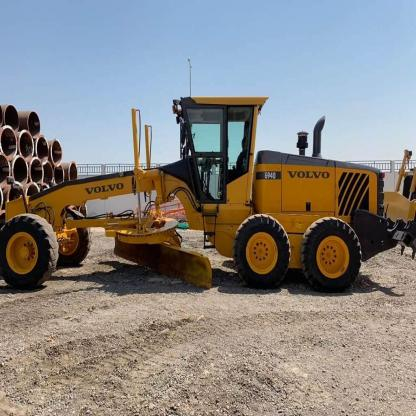bull_dozer/loader/grader: (5, 89, 398, 306)
